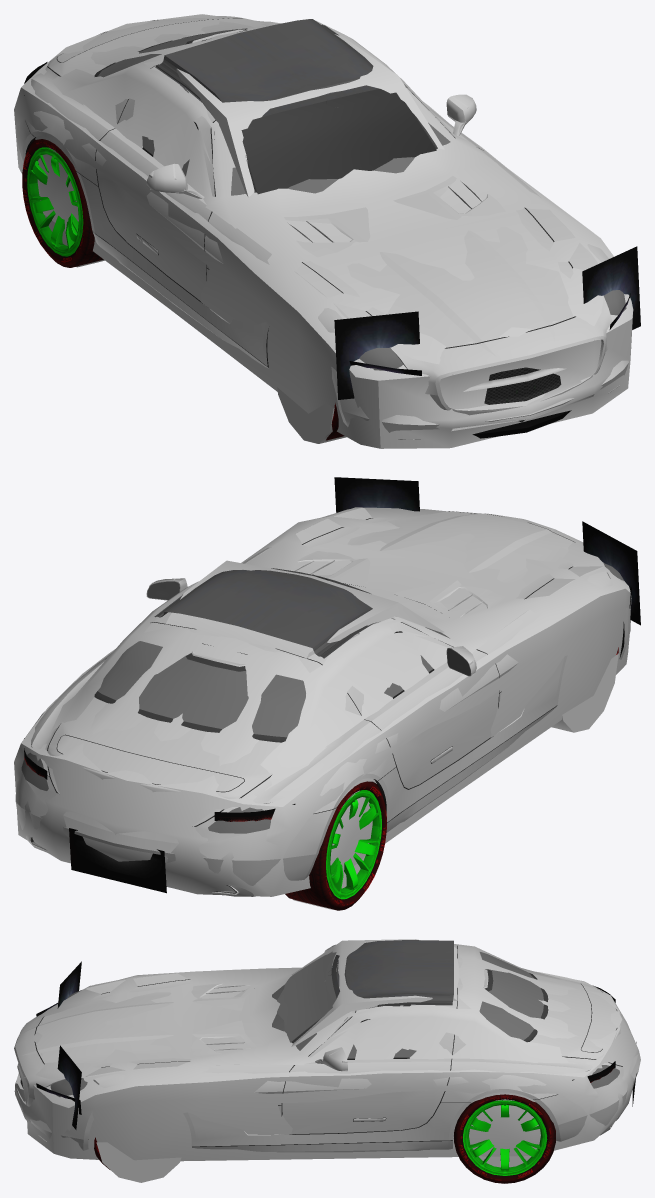
Rendered from P_car-014_Meven.fbx.
3 views of the same model, one above another, from view 1: azimuth 30°, elevation 25°; view 2: azimuth 150°, elevation 25°; view 3: azimuth 270°, elevation 25° (orthographic). The views are drawn at different scales.
Parts seen in each view (by area): view 1: M_Car-014_ShadowForm_Meven_01, M_Car-014_Body_Meven_01, M_Car-Interior_Glass_01, M_Car-Interior_Details_01, M_Car-014_FrontFlares_Meven_01, M_Car-Interior_Shadowform_01, M_Car-014_Details_Meven_01, M_Car-014_Glass_Meven_01, M_CarWheel-002_L_AP_01, M_CarTire_005_AP_02, M_CarTire_005_AP_01, M_CarTire-002_L_AP_01 (+1 smaller); view 2: M_Car-014_ShadowForm_Meven_01, M_Car-014_Body_Meven_01, M_Car-014_Glass_Meven_01, M_Car-Interior_Details_01, M_Car-014_FrontFlares_Meven_01, M_Car-Interior_Shadowform_01, M_Car-014_Details_Meven_01, M_Car-014_BackFlares_Meven_01, M_CarWheel-002_L_AP_01, M_CarTire_005_AP_02, M_CarTire-002_L_AP, M_CarTire_005_AP_01 (+1 smaller); view 3: M_Car-014_ShadowForm_Meven_01, M_Car-014_Body_Meven_01, M_Car-Interior_Details_01, M_Car-014_Glass_Meven_01, M_Car-Interior_Glass_01, M_Car-Interior_Shadowform_01, M_CarWheel-002_L_AP_01, M_Car-014_Details_Meven_01, M_Car-014_FrontFlares_Meven_01, M_CarTire_005_AP_02, M_CarTire-002_L_AP, M_CarTire_005_AP_01 (+1 smaller).
Boxes of the visible parts, box(x1,y1,x2,y2) form: M_Car-014_ShadowForm_Meven_01: box(14, 14, 633, 448); M_Car-014_Body_Meven_01: box(16, 16, 628, 439); M_Car-Interior_Glass_01: box(241, 89, 436, 194); M_Car-Interior_Details_01: box(154, 19, 437, 192); M_Car-014_FrontFlares_Meven_01: box(334, 246, 640, 399); M_Car-Interior_Shadowform_01: box(176, 34, 444, 197); M_Car-014_Details_Meven_01: box(25, 18, 625, 438); M_Car-014_Glass_Meven_01: box(98, 28, 626, 370); M_CarWheel-002_L_AP_01: box(22, 139, 92, 267); M_CarTire_005_AP_02: box(28, 183, 82, 254); M_CarTire_005_AP_01: box(28, 148, 82, 220); M_CarTire-002_L_AP_01: box(27, 147, 68, 235); M_Car-014_ShadowForm_Meven_01: box(14, 507, 631, 909); M_Car-014_Body_Meven_01: box(15, 508, 630, 896); M_Car-014_Glass_Meven_01: box(21, 563, 623, 833); M_Car-Interior_Details_01: box(154, 568, 378, 658); M_Car-014_FrontFlares_Meven_01: box(334, 477, 640, 625); M_Car-Interior_Shadowform_01: box(166, 560, 444, 658); M_Car-014_Details_Meven_01: box(31, 511, 624, 893); M_Car-014_BackFlares_Meven_01: box(35, 770, 272, 893); M_CarWheel-002_L_AP_01: box(286, 781, 386, 910); M_CarTire_005_AP_02: box(326, 824, 380, 897); M_CarTire-002_L_AP: box(340, 790, 381, 899); M_CarTire_005_AP_01: box(326, 791, 380, 865); M_Car-014_ShadowForm_Meven_01: box(15, 944, 638, 1182); M_Car-014_Body_Meven_01: box(14, 944, 640, 1152); M_Car-Interior_Details_01: box(291, 940, 453, 1043); M_Car-014_Glass_Meven_01: box(50, 952, 619, 1096); M_Car-Interior_Glass_01: box(277, 952, 411, 1042); M_Car-Interior_Shadowform_01: box(291, 939, 459, 1046); M_CarWheel-002_L_AP_01: box(454, 1094, 555, 1183); M_Car-014_Details_Meven_01: box(17, 945, 622, 1146); M_Car-014_FrontFlares_Meven_01: box(36, 961, 81, 1129); M_CarTire_005_AP_02: box(464, 1136, 545, 1174); M_CarTire-002_L_AP: box(484, 1105, 547, 1175); M_CarTire_005_AP_01: box(464, 1100, 545, 1138).
Size of the model in its own units: 2.1 by 1.36 by 4.64.
